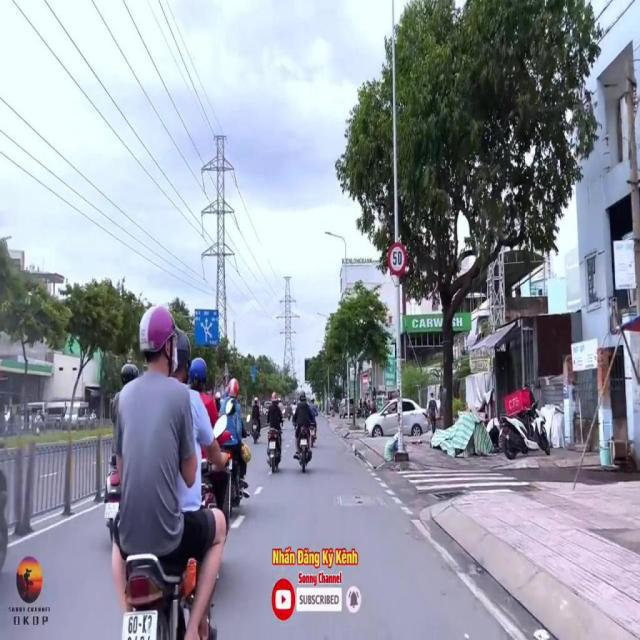khac: (193, 308, 219, 348)
toc_do_toi_da_50: (387, 243, 407, 277)
